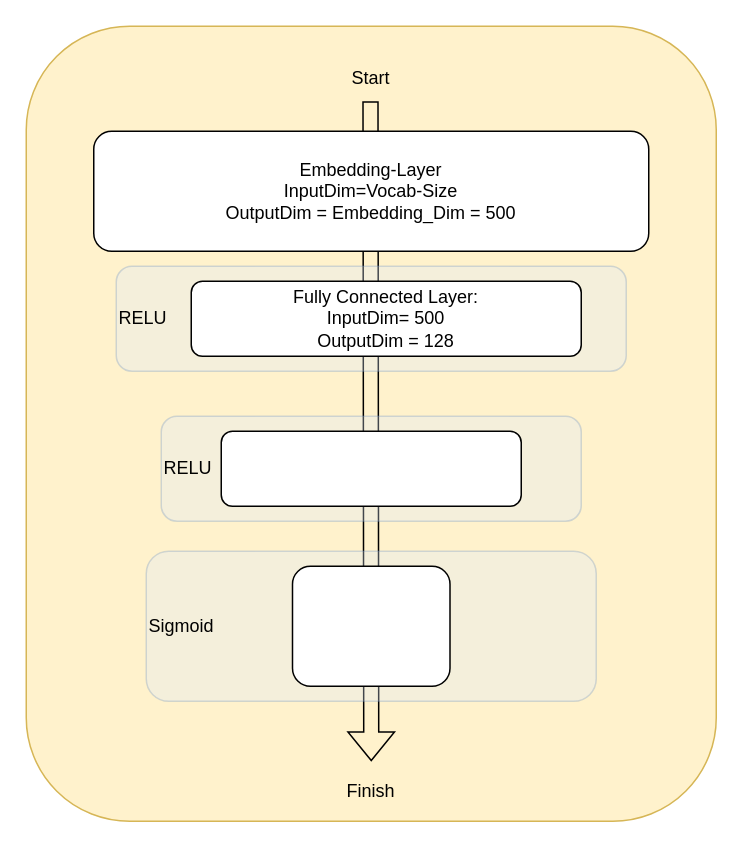
Image size: 743x848. Some labels were removed from this diagram. The shapes that lost their labels are listed below. From the top down, each one's centre as x and y in pixels, then its label:
(x=370, y=468): Fully Connected Layer: InputDim= 128 OutputDim = 64
(x=370, y=625): Fully Connected Layer: InputDim = 64 OutputDim = 5
